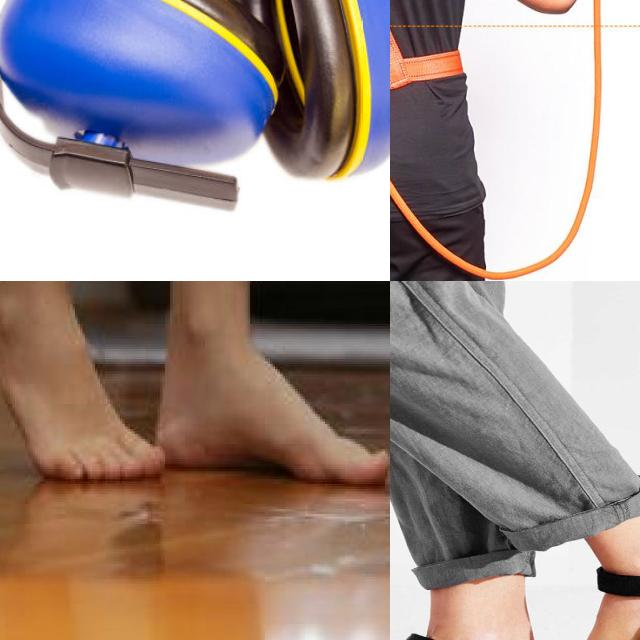Barefoots: (149, 281, 390, 493), (0, 281, 179, 507)
Ear-protection: (0, 0, 390, 218)
Harness: (390, 0, 465, 274)
Sandals: (390, 481, 640, 640)
